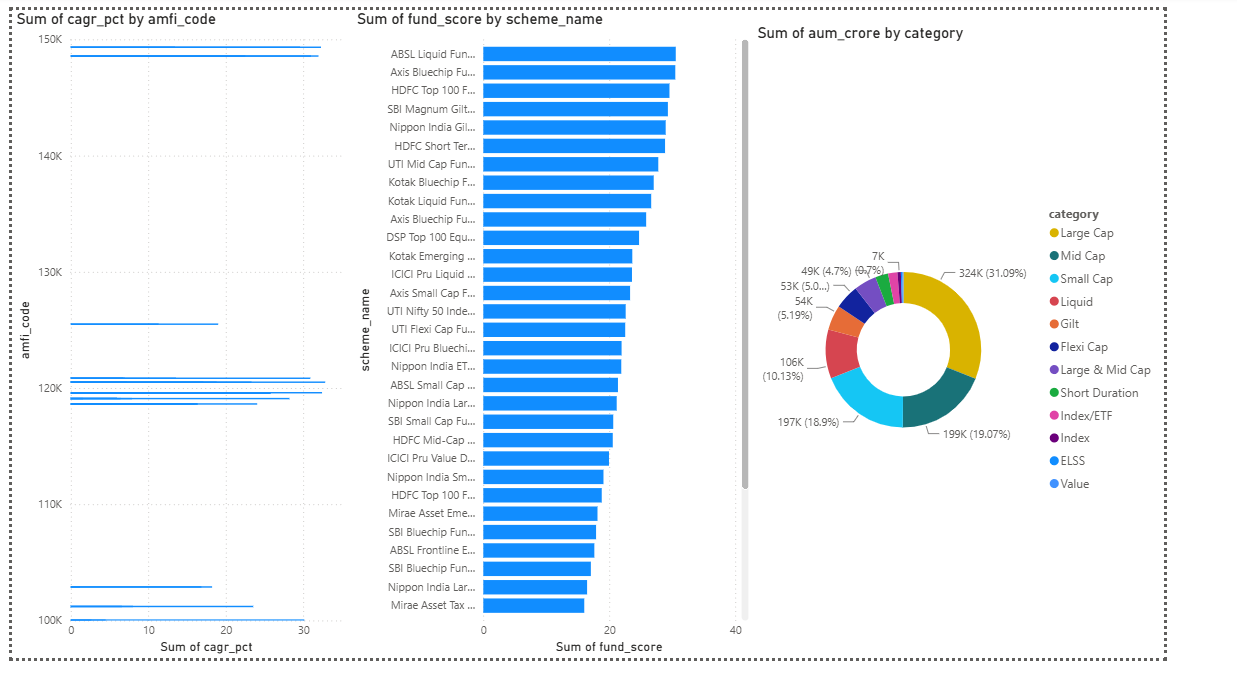

This screenshot's page, from the dashboard's own definition file:
{"tool":"powerbi","page":{"name":"SIP & Market Trends","canvas":[1280,720],"ordinal":3},"visuals":[{"type":"clusteredBarChart","fields":{"Category":["cagr_results.amfi_code"],"Y":["Sum(cagr_results.cagr_pct)"]},"box":[0,0,378.3,720],"z":0},{"type":"donutChart","fields":{"Category":["cleaned_scheme_performance.category"],"Y":["Sum(cleaned_scheme_performance.aum_crore)"]},"box":[823.3,15,456.7,705],"z":1},{"type":"clusteredBarChart","fields":{"Category":["fund_scorecard.scheme_name"],"Y":["Sum(fund_scorecard.fund_score)"]},"box":[378.3,0,445,720],"z":2}]}

Visuals, with their boxes on the page's 1280x720 design canvas (x1, y1, x2, y2). These are canvas units, not pixel positions in the 1237x673 screenshot, which may show the page scaled, cropped or inside an application window:
clusteredBarChart - cagr_results.amfi_code x Sum(cagr_results.cagr_pct): [left=0, top=0, right=378, bottom=720]
donutChart - cleaned_scheme_performance.category x Sum(cleaned_scheme_performance.aum_crore): [left=823, top=15, right=1280, bottom=720]
clusteredBarChart - fund_scorecard.scheme_name x Sum(fund_scorecard.fund_score): [left=378, top=0, right=823, bottom=720]
